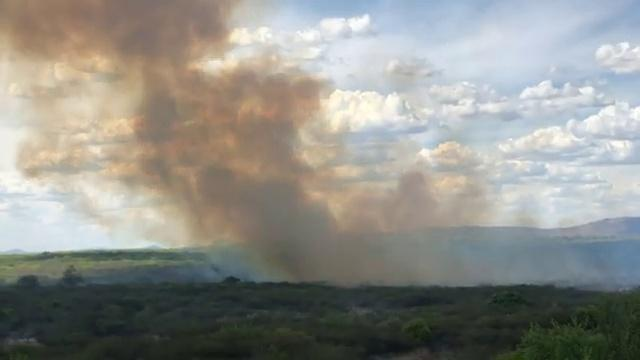smoke: (47, 0, 204, 39), (264, 188, 336, 269)
